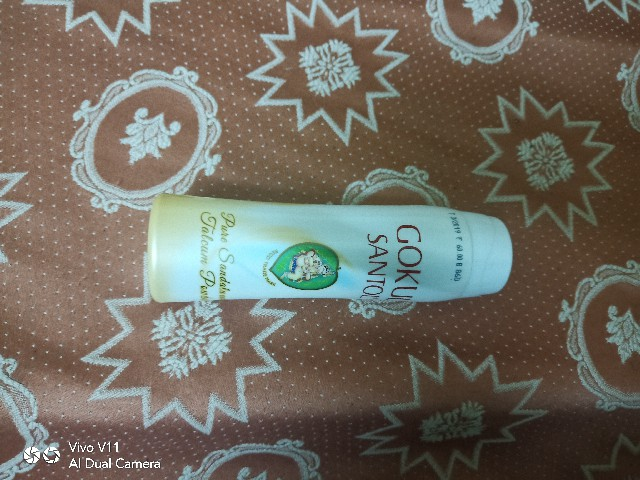gokulsantol big: (130, 175, 539, 316)
